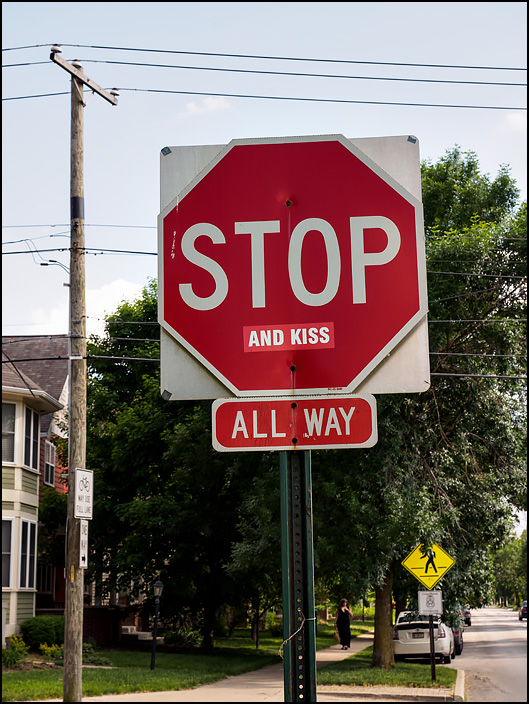stop: (151, 123, 429, 401)
